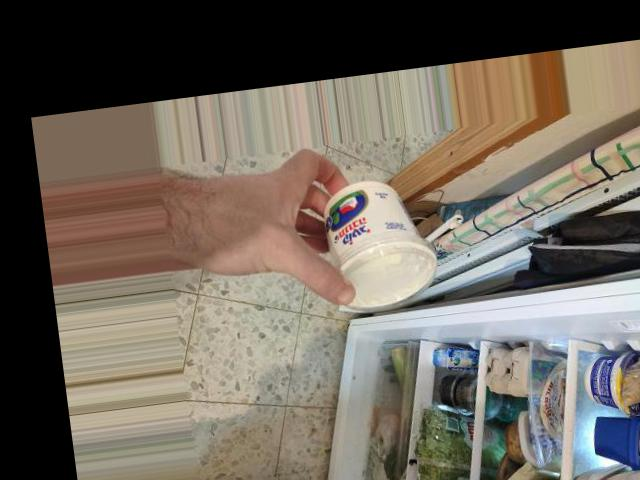cotage: (308, 174, 440, 287)
